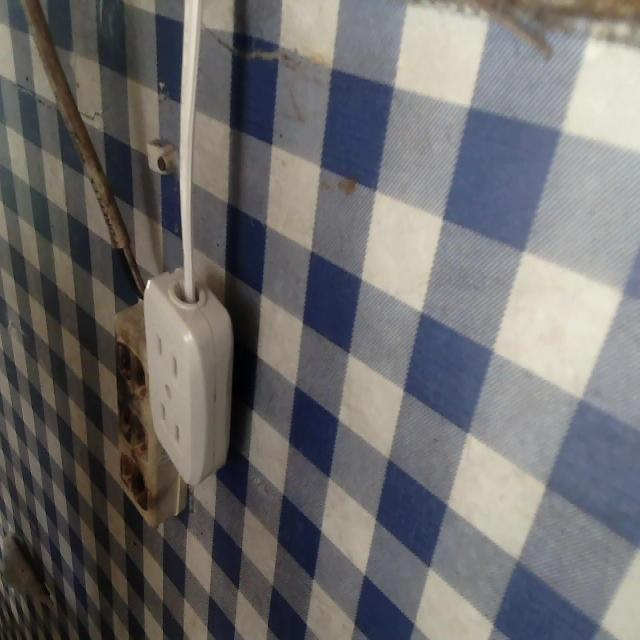-: (111, 393, 154, 456), (115, 329, 149, 391), (125, 460, 157, 508)
